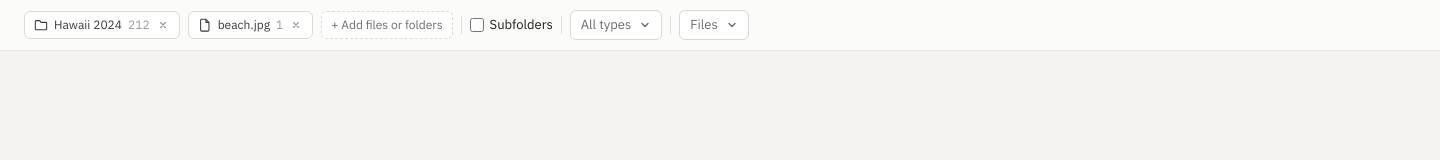
FilesStrip › closes the add menu with Escape and returns focus to the add button
Click the button "+ Add files or folders" at (387, 25), box [321,11,453,39]
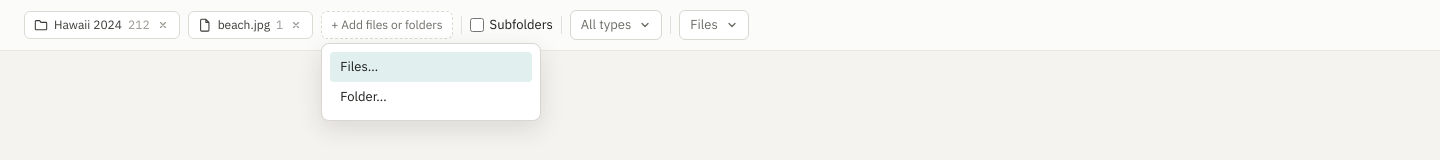
Expected: the menu is shown, [321,43,541,121]
Press Escape
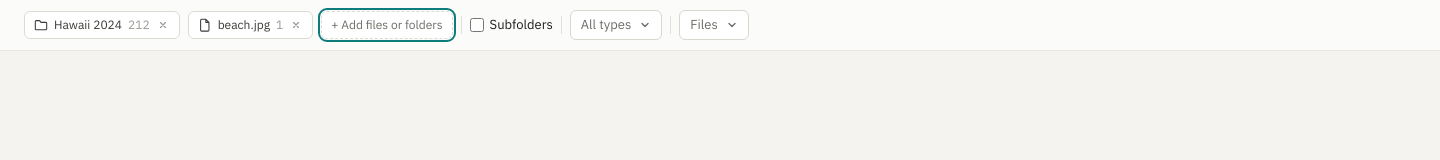
Expected: the menu is gone
